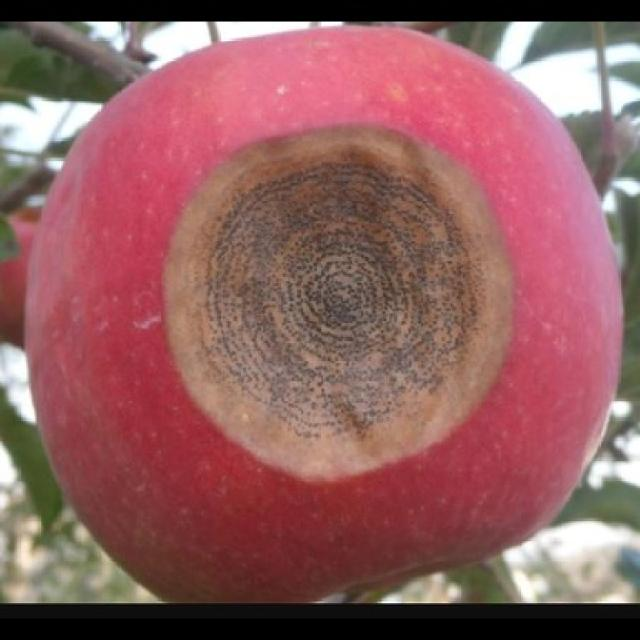Rotten Apple: (21, 24, 624, 602)
